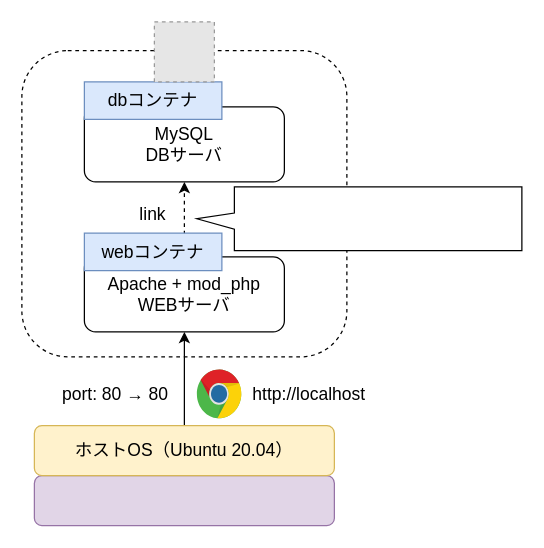
This 544x548 diagram has some shape labels left out. Grey dashed boxes stand in for pictures. Here are the shapes that lost their labels. From the top down, the box of each, then its label:
(196, 186, 522, 251): MySQLデータベース通信はポート3306 を介して行われる
(33, 474, 334, 526): Linuxカーネル
